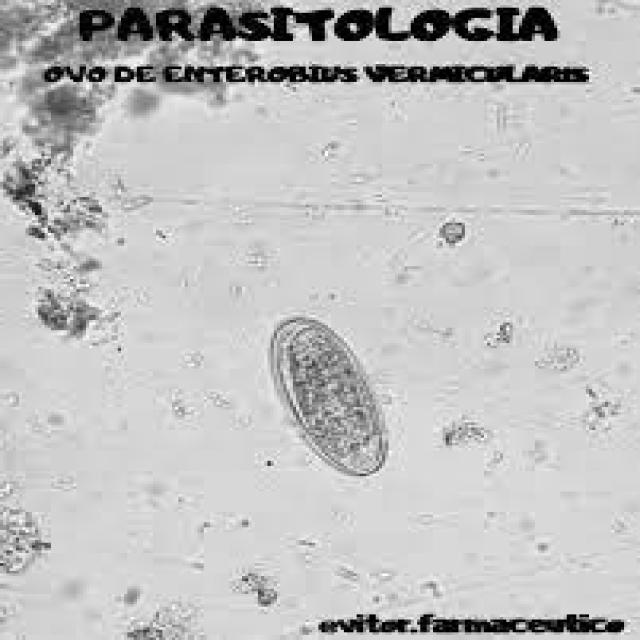Enterobius Vermicularis: (266, 312, 393, 484)
